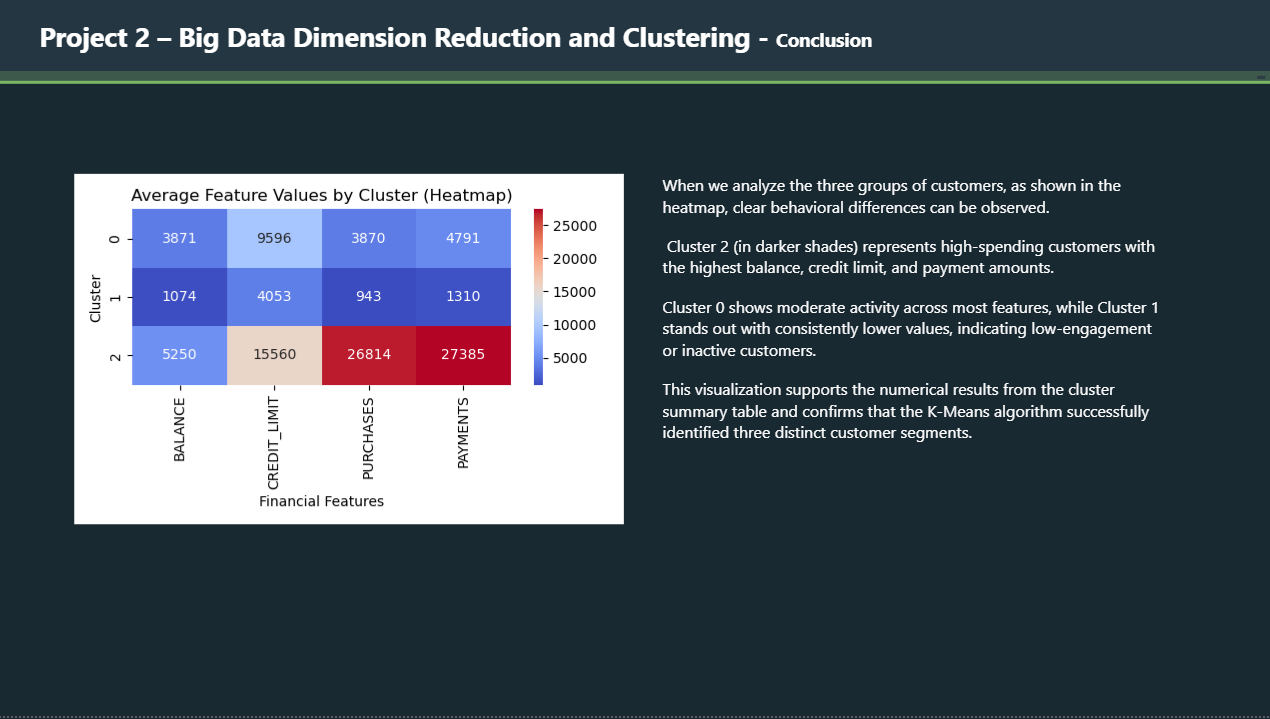

The page's visual inventory and layout, read from the dashboard file:
{"tool":"powerbi","page":{"name":"Conclution","canvas":[1280,720],"ordinal":6},"visuals":[{"type":"textbox","box":[0,75.6,1280.2,12.8],"z":0},{"type":"pythonVisual","fields":{"Values":["final.BALANCE","final.CREDIT_LIMIT","final.PURCHASES","final.PAYMENTS","final.cluster"]},"box":[51.8,151.2,615.5,403.9],"z":1000},{"type":"textbox","box":[667.4,172.1,518.6,391.9],"z":2000},{"type":"textbox","box":[0,0,1280.2,84.9],"z":3000}]}

Visuals, with their boxes in screenshot pixels (x1, y1, x2, y2), scaled from the page's 1280x720 canvas onto the 1270x719 screenshot:
textbox: BBox(0, 75, 1269, 88)
pythonVisual - final.BALANCE x final.CREDIT_LIMIT: BBox(51, 151, 662, 554)
textbox: BBox(662, 172, 1177, 563)
textbox: BBox(0, 0, 1269, 85)
